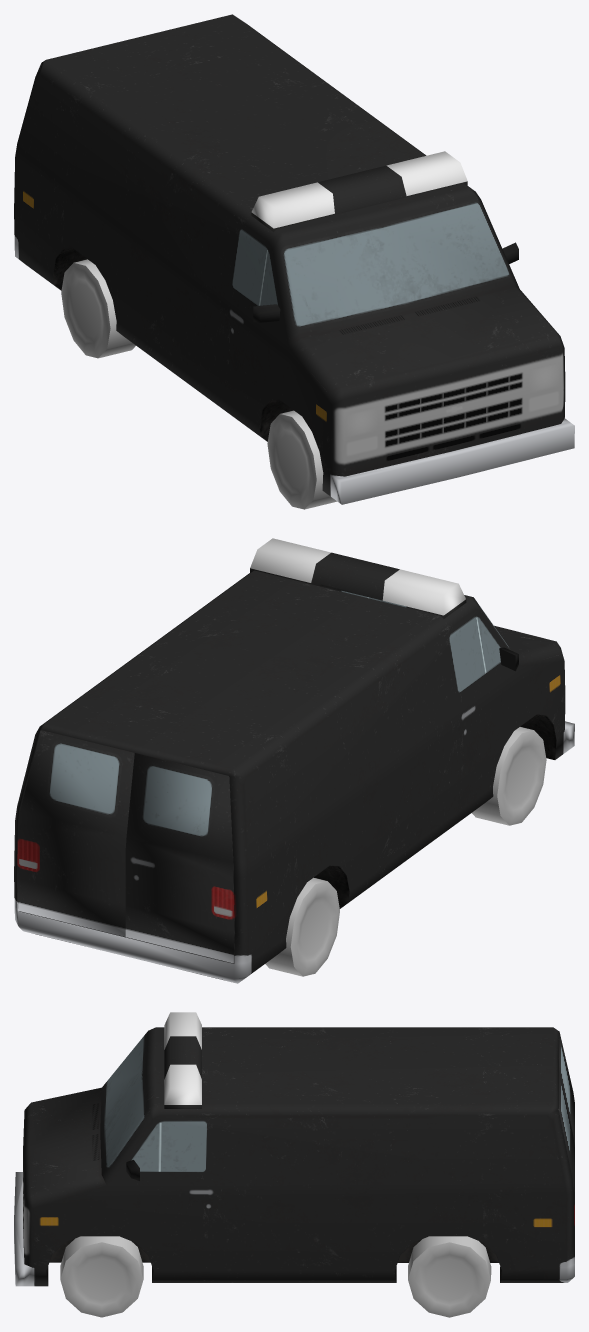
File: PoliceVan.fbx
3 renders of one model, top to bottom at view 1: azimuth 30°, elevation 25°; view 2: azimuth 150°, elevation 25°; view 3: azimuth 270°, elevation 25°, orthographic. The views are drawn at different scales.
Visible parts, largest first — view 1: Cube.002, Cylinder.008, Cylinder.009, Cube.003; view 2: Cube.002, Cube.001, Cube.005, Cylinder.008, Cylinder.009; view 3: Cube.002, Cylinder.010, Cylinder.011, Cube.005, Cube.001.
Part boxes in pixels (<box>): Cube.002: <box>14,14,574,504</box>; Cylinder.008: <box>61,259,135,358</box>; Cylinder.009: <box>267,410,336,509</box>; Cube.003: <box>253,242,518,322</box>; Cube.002: <box>14,538,574,983</box>; Cube.001: <box>125,753,234,963</box>; Cube.005: <box>17,730,134,936</box>; Cylinder.008: <box>265,877,339,976</box>; Cylinder.009: <box>472,727,546,825</box>; Cube.002: <box>14,1012,574,1286</box>; Cylinder.010: <box>60,1236,143,1317</box>; Cylinder.011: <box>408,1236,491,1317</box>; Cube.005: <box>558,1070,574,1263</box>; Cube.001: <box>559,1031,574,1146</box>.
Bounding box in the file's own units: 148 × 142 × 325.
